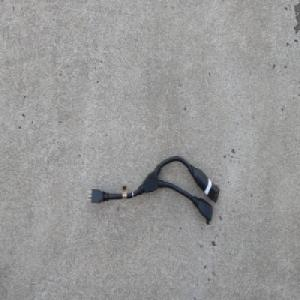Wire: (86, 154, 220, 225)
